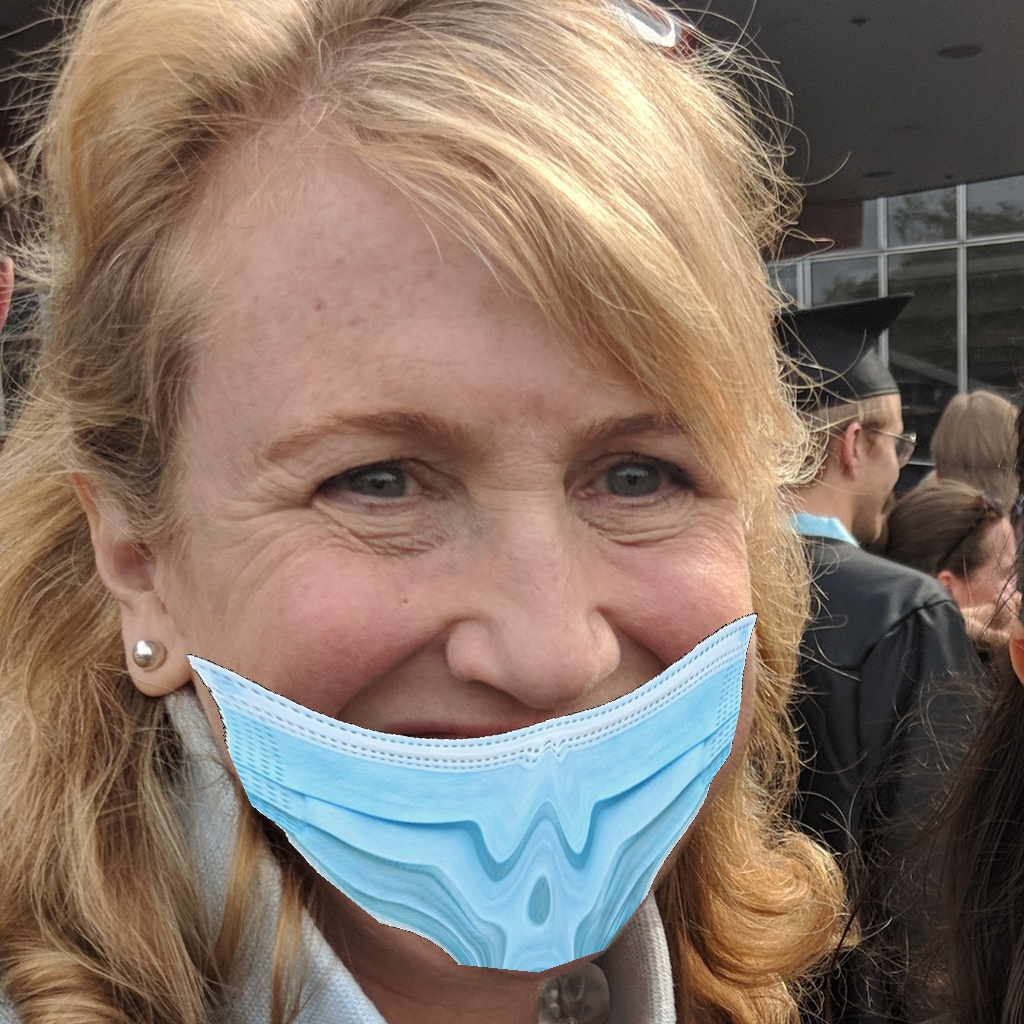mascarilla_mal_puesta: (189, 360, 797, 980)
